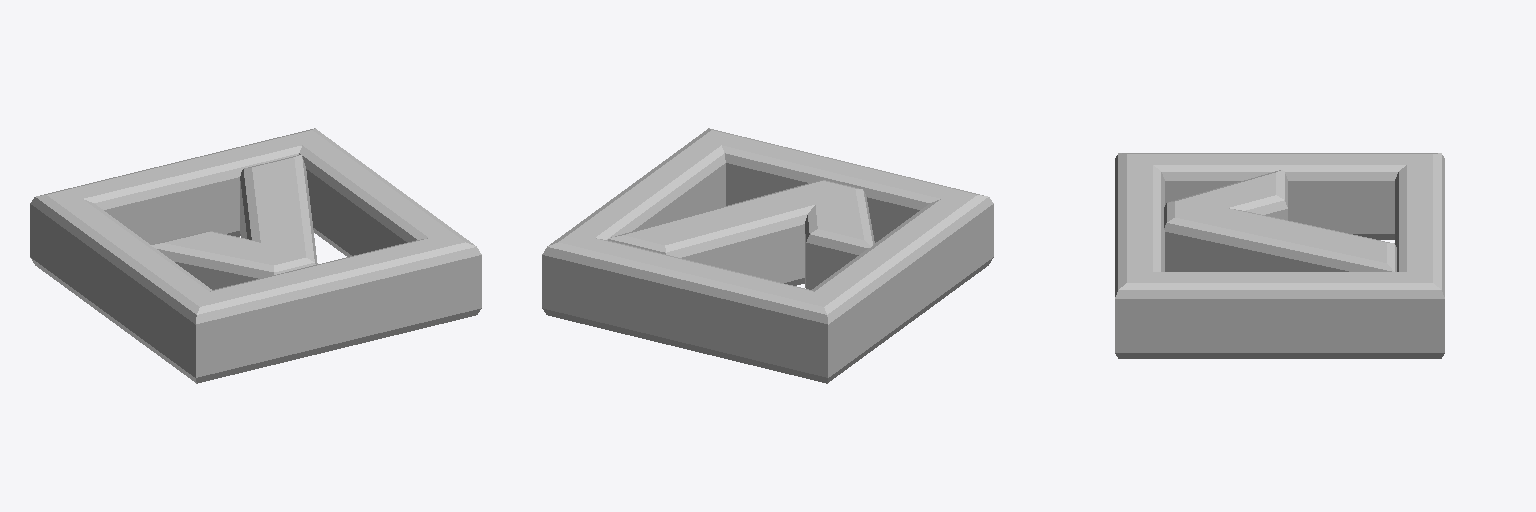
Rendered from ballotboxtickobj.obj.
3 views of the same model, side by side, from view 1: azimuth 30°, elevation 25°; view 2: azimuth 150°, elevation 25°; view 3: azimuth 270°, elevation 25° (orthographic).
Parts seen in each view (by area): view 1: A_Text; view 2: A_Text; view 3: A_Text.
Part boxes in pixels (x1,y1,x2,y2): A_Text: (30, 128, 481, 383); A_Text: (542, 128, 993, 383); A_Text: (1115, 153, 1444, 358).
Bounding box in the file's own units: 0.5596 × 0.14 × 0.5596.